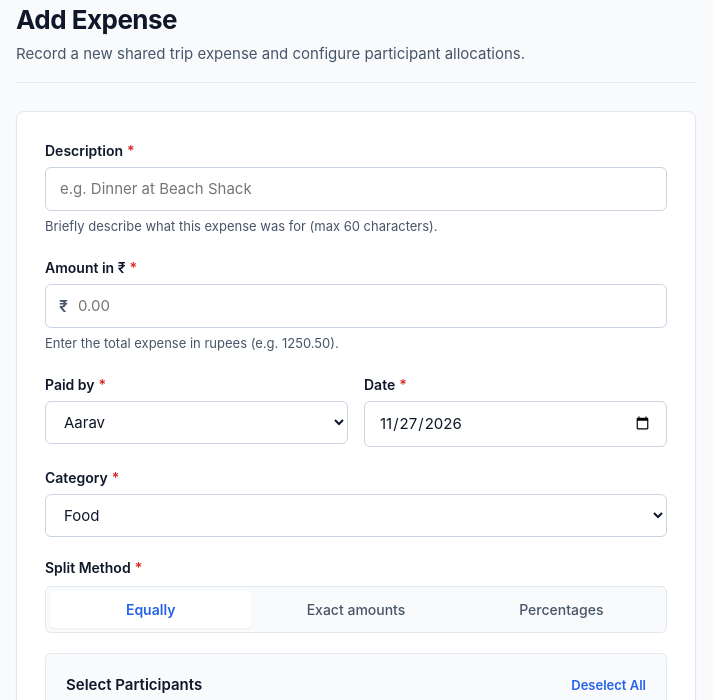
Scenario: AddExpensePage Integration › validates percentage split and blocks save when total is not 100%
This screenshot has width=713, height=700.
Type "Boat Ride" into the field labelled "Description *".
click(356, 189); type("Boat Ride")  # box [45,166,667,211]
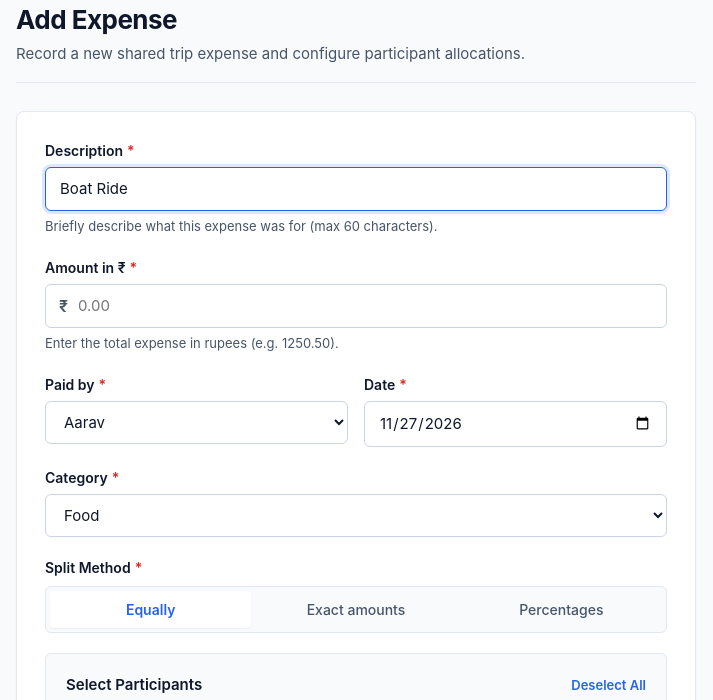
Type "1500" into the field labelled "Amount in ₹ *".
click(356, 306); type("1500")  # box [45,284,667,328]
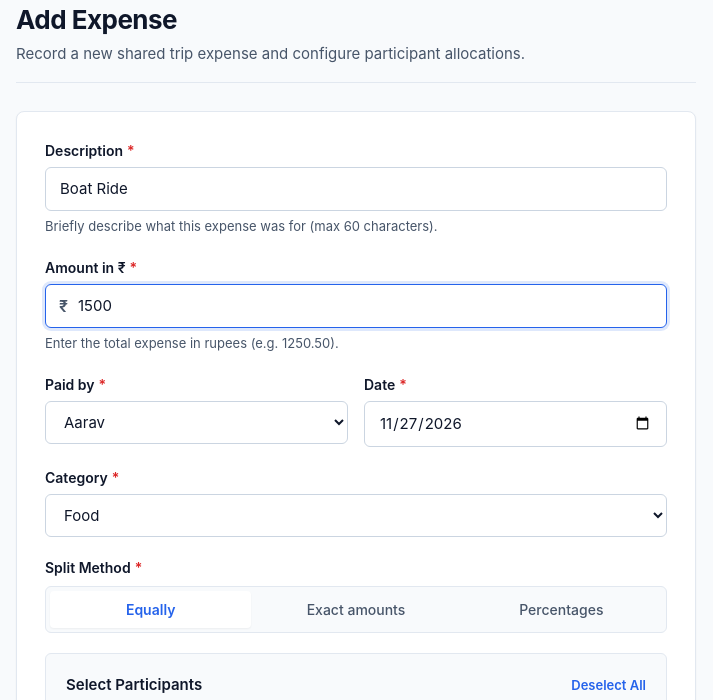
# Switch to Percentages
Click the radio button labelled "Percentages".
click(561, 610)  # box [461,591,662,628]
(page scrolled)
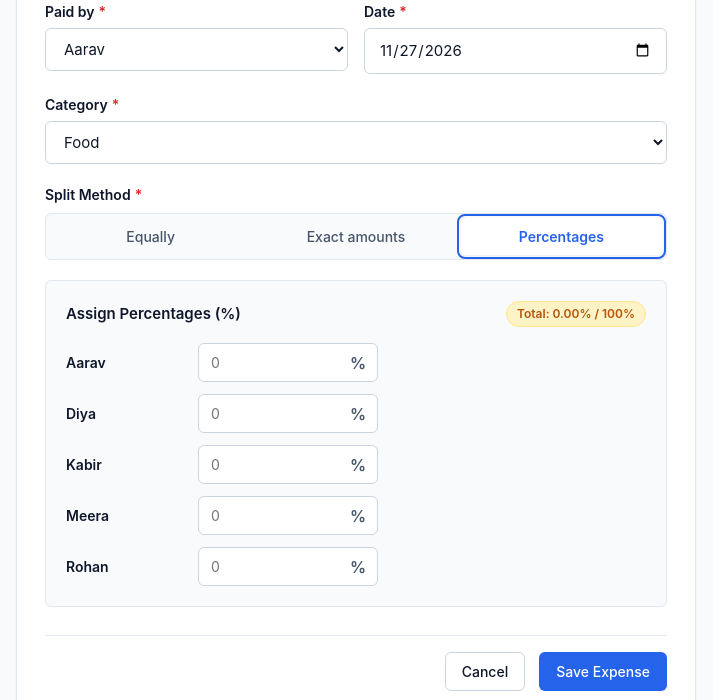
# Assign 50% to Aarav, 30% to Diya (80% total)
Type "50" into the field labelled "Aarav".
click(288, 363); type("50")  # box [198,343,378,382]
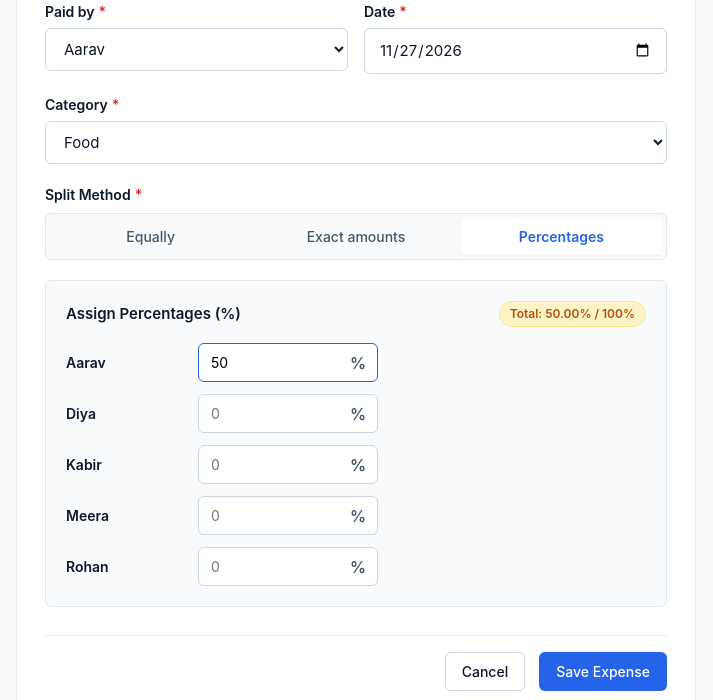
Type "30" into the field labelled "Diya".
click(288, 414); type("30")  # box [198,394,378,433]
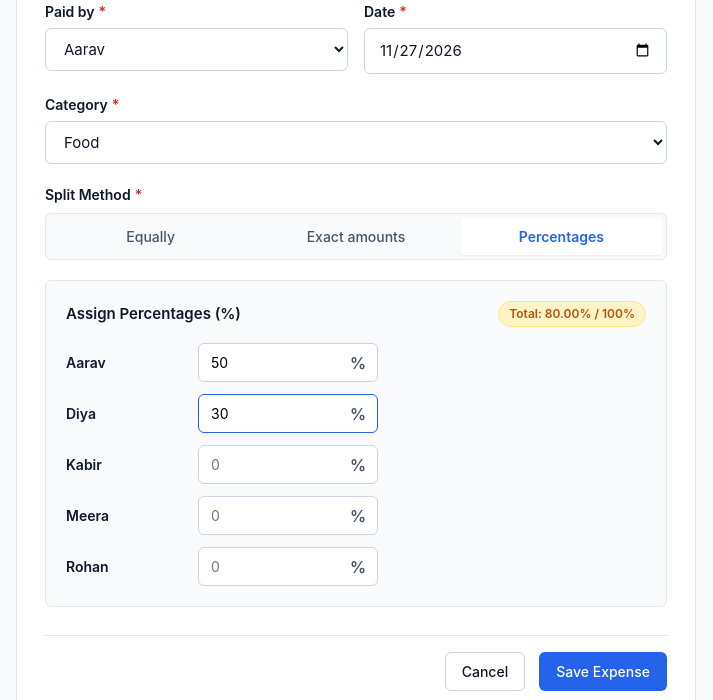
Click the button "Save Expense".
click(603, 672)  # box [539,652,667,691]
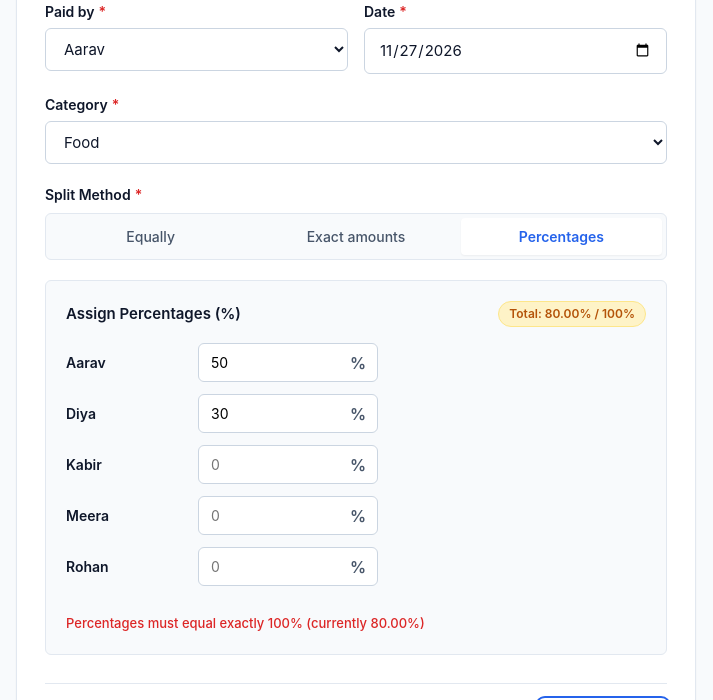
Expected: the text "Percentages must equal exactly 100% (currently 80.00%)" is shown, [66,615,425,631]
